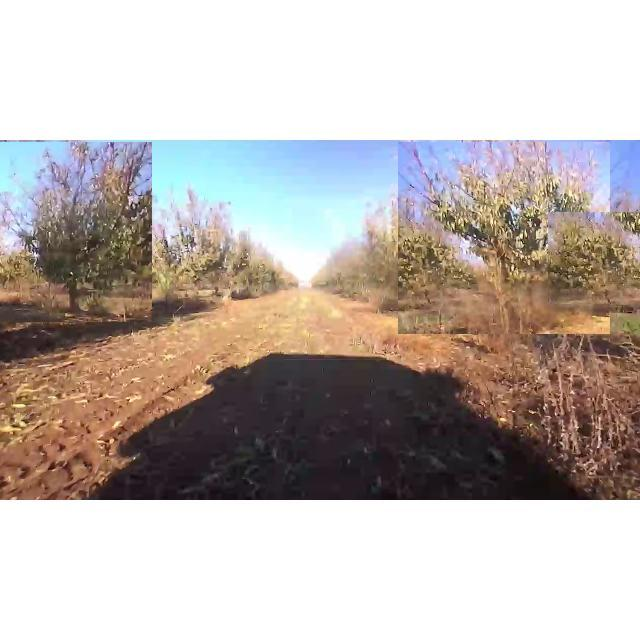direk: (398, 142, 610, 334), (0, 142, 152, 322), (548, 212, 640, 304), (172, 193, 236, 297)
